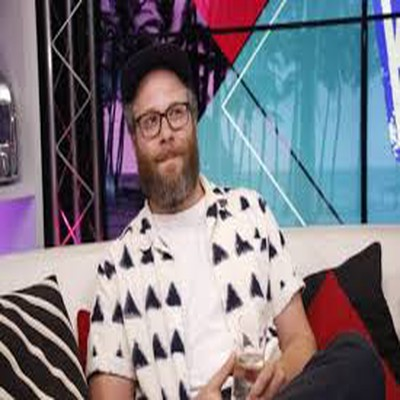eywear: (109, 98, 212, 143)
